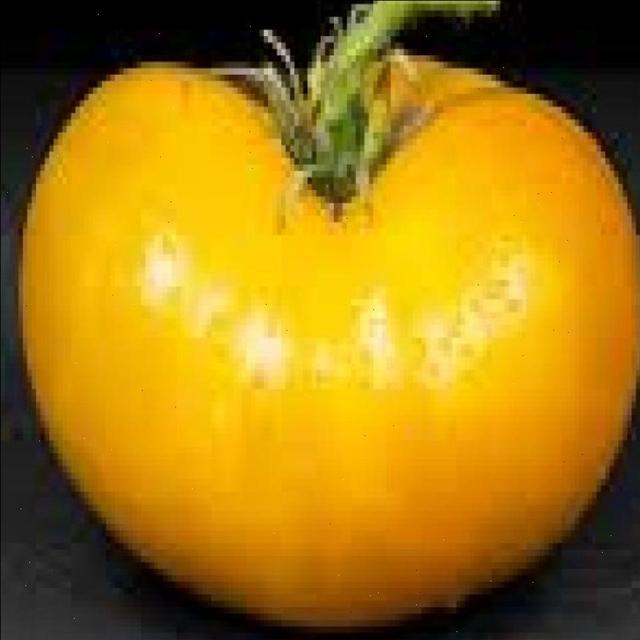Healthy Fruit: (1, 32, 427, 414)
